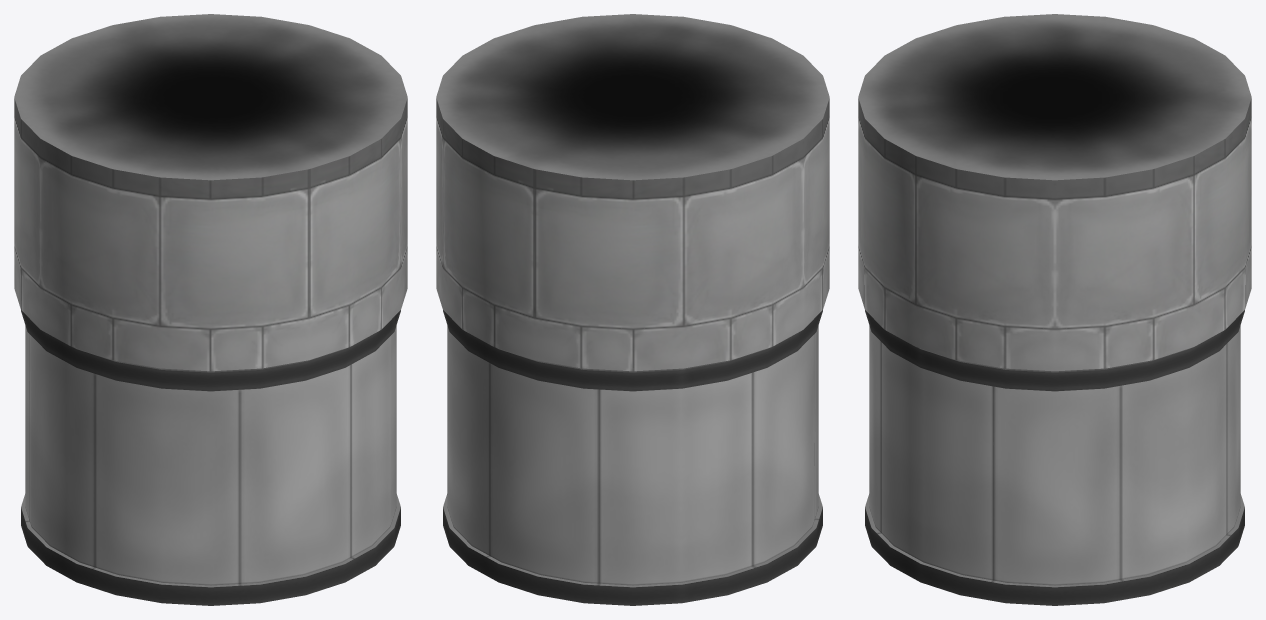
The model's file is Diamant_Vexin.dae.
3 renders of one model, left to right at view 1: azimuth 30°, elevation 25°; view 2: azimuth 150°, elevation 25°; view 3: azimuth 270°, elevation 25°, orthographic.
Visible parts, largest first — view 1: Vexin1, fairing; view 2: Vexin1, fairing; view 3: Vexin1, fairing.
Part boxes in pixels (box(x1,y1,x2,y2)): Vexin1: box(14, 14, 407, 371); fairing: box(21, 310, 400, 605); Vexin1: box(436, 14, 829, 371); fairing: box(443, 310, 822, 605); Vexin1: box(858, 14, 1251, 371); fairing: box(865, 310, 1244, 605).
Bounding box in the file's own units: 1.25 × 1.5 × 1.25.
